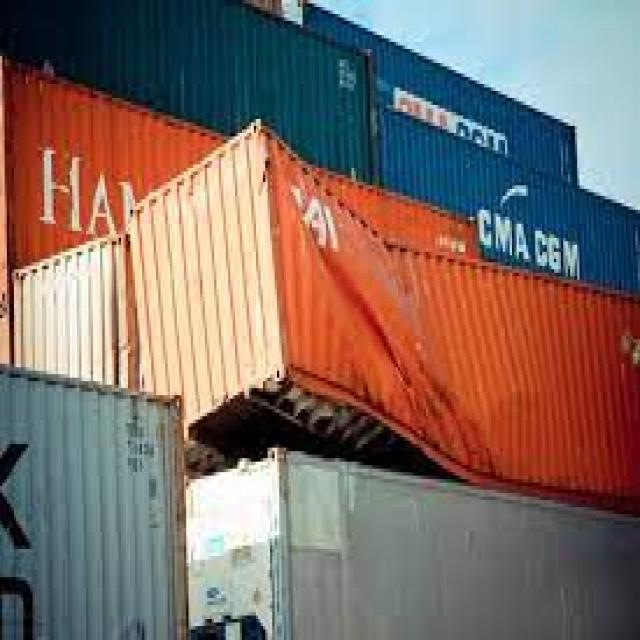hole: (131, 117, 516, 485)
rust: (142, 404, 192, 520)
